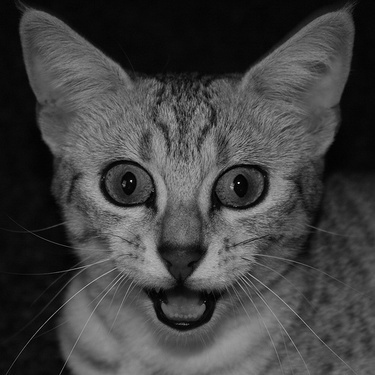cat: (21, 9, 372, 370)
